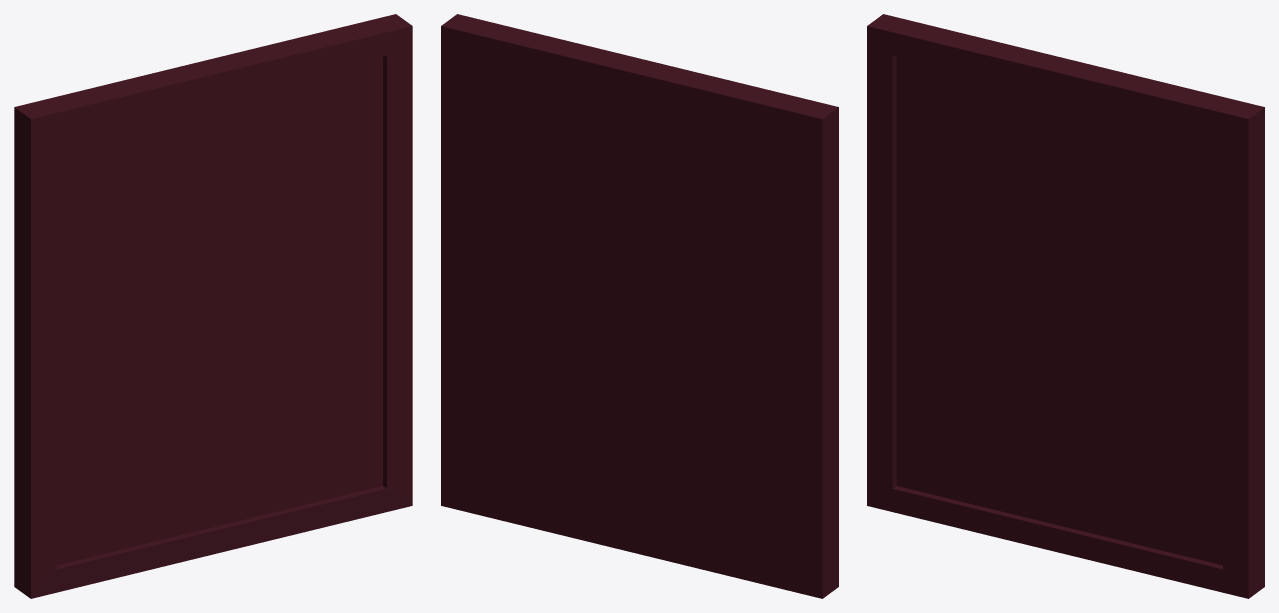
File: Itr_Obj_Frame2_04.FBX
3 views of the same model, side by side, from view 1: azimuth 30°, elevation 25°; view 2: azimuth 150°, elevation 25°; view 3: azimuth 330°, elevation 25° (orthographic).
Parts seen in each view (by area): view 1: Itr_Obj_Frame2_04; view 2: Itr_Obj_Frame2_04; view 3: Itr_Obj_Frame2_04.
Boxes of the visible parts, <box> form: Itr_Obj_Frame2_04: <box>14,14,412,598</box>; Itr_Obj_Frame2_04: <box>441,14,838,598</box>; Itr_Obj_Frame2_04: <box>867,14,1264,598</box>.
Bounding box in the file's own units: 31.11 × 37.35 × 2.33.
